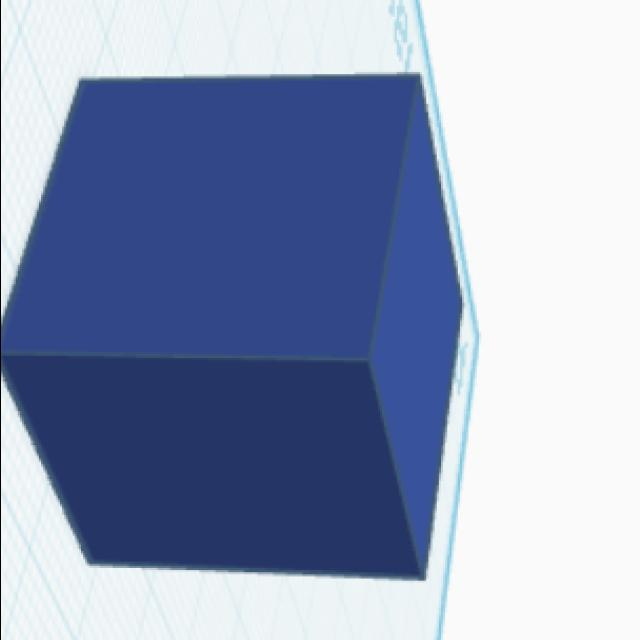cube: (0, 70, 470, 585)
